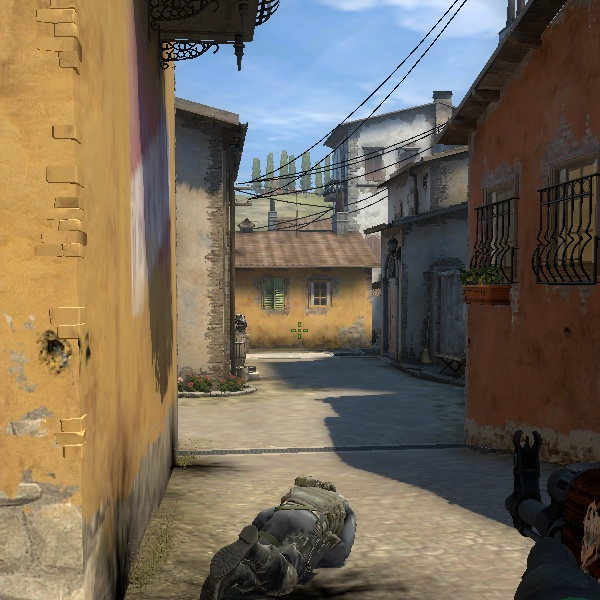t_body: (427, 183, 595, 600)
